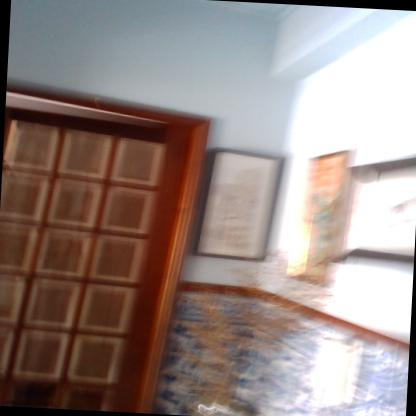semi: (0, 67, 222, 416)
